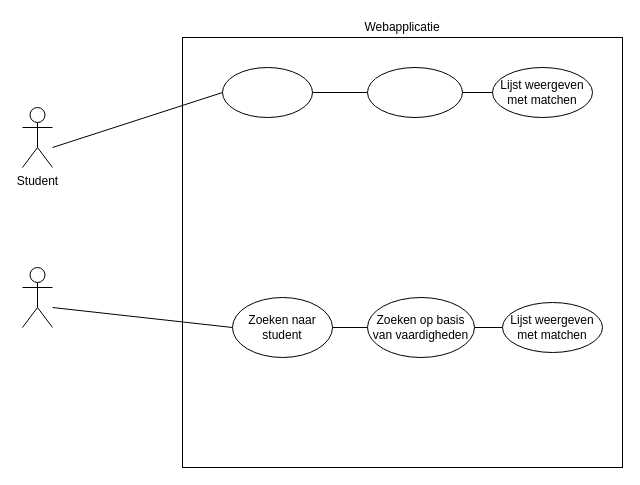
This 640x485 diagram has some shape labels left out. The shapes that lost their labels are listed below. From the top down, each one's box as (x1, y1, x2, y2) in pixels, then its label:
(222, 66, 312, 118): Zoekt naar bedrijf
(366, 66, 462, 118): Zoeken op techniek
(22, 266, 52, 328): Bedrijf
